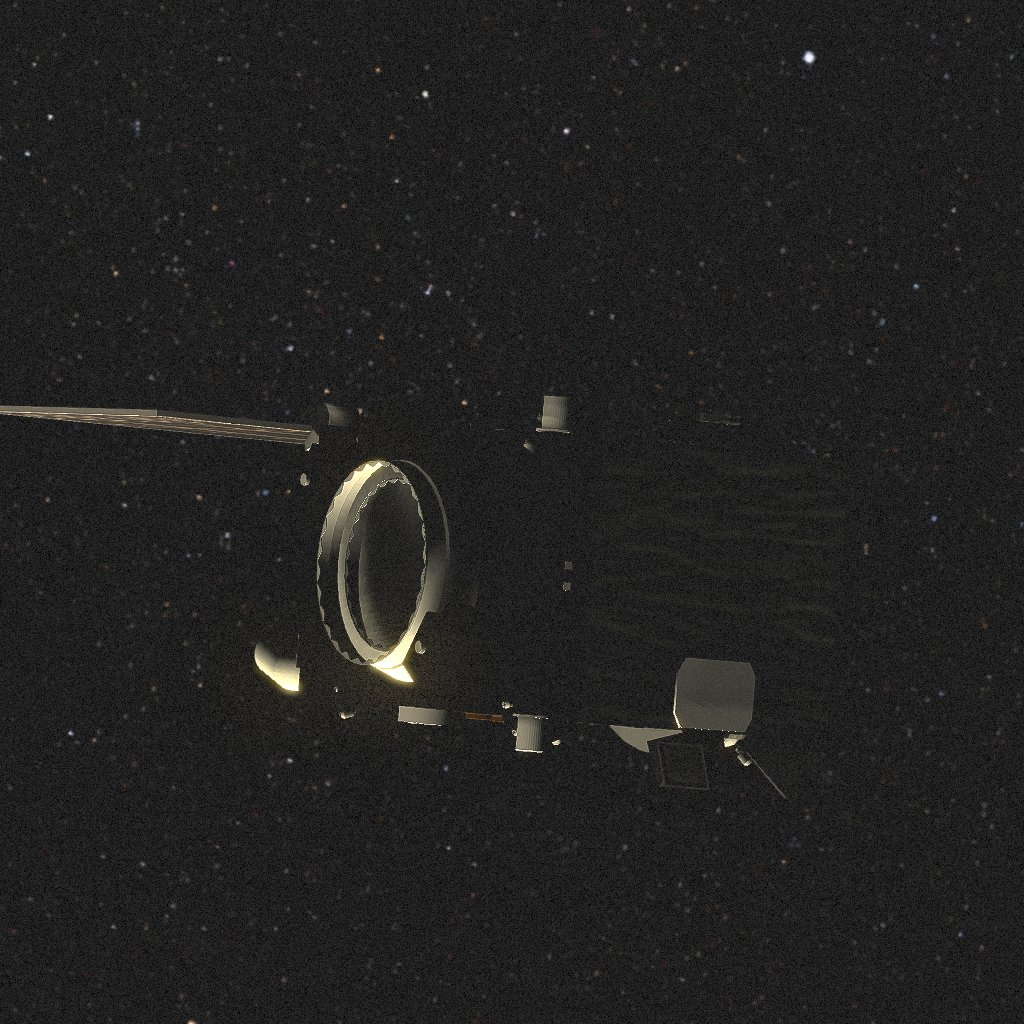proba_3_csc: (0, 394, 867, 799)
